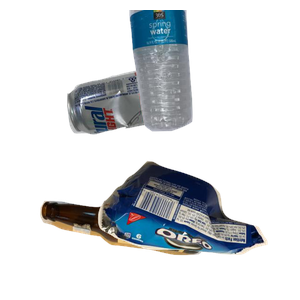glass: (37, 198, 236, 300)
metal: (65, 65, 231, 192)
plastic: (127, 10, 300, 134)
trash: (95, 158, 300, 300)
